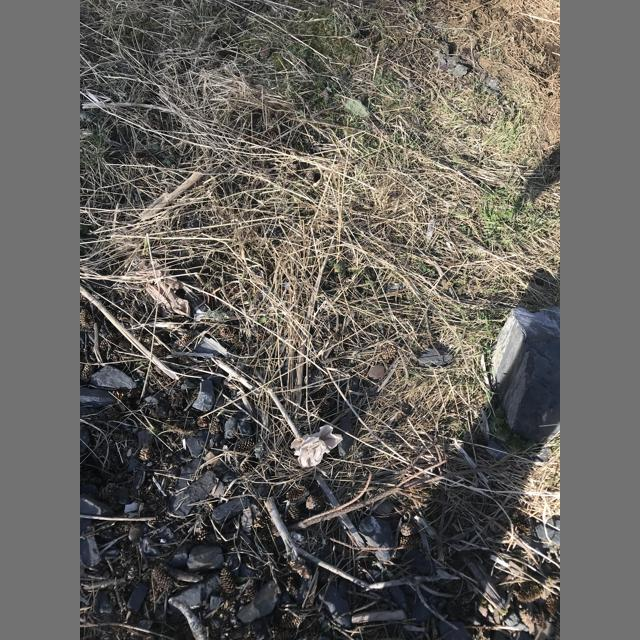litter: (291, 425, 342, 467)
